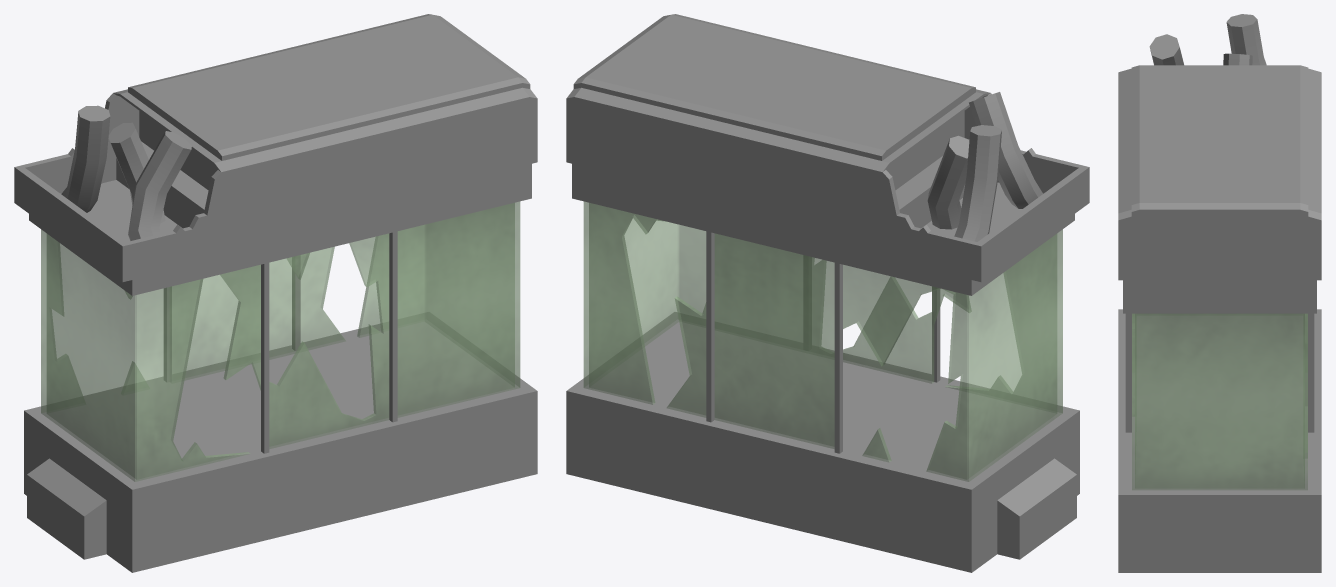
File: Plant_Int_Obj_B1.fbx
The picture shows the model from 3 angles, left to right: view 1: azimuth 30°, elevation 25°; view 2: azimuth 150°, elevation 25°; view 3: azimuth 270°, elevation 25°; orthographic projection. The views are drawn at different scales.
Parts seen in each view (by area): view 1: Plant_Int_Obj_B1; view 2: Plant_Int_Obj_B1; view 3: Plant_Int_Obj_B1.
Part boxes in pixels (bbox=[...]): Plant_Int_Obj_B1: bbox=[14, 14, 537, 572]; Plant_Int_Obj_B1: bbox=[566, 14, 1089, 572]; Plant_Int_Obj_B1: bbox=[1118, 14, 1321, 572].
Size of the model in its own units: 149 by 135 by 65.25.
2 materials, 1 textured.
